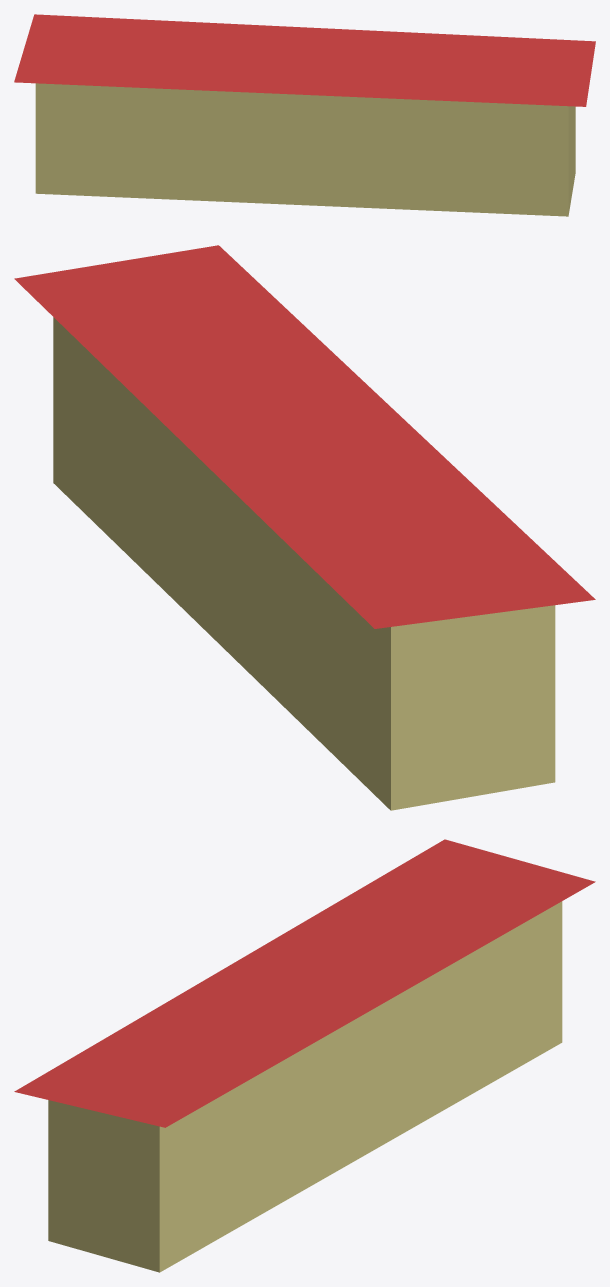
The picture shows the model from 3 angles, top to bottom: view 1: azimuth 30°, elevation 25°; view 2: azimuth 150°, elevation 25°; view 3: azimuth 270°, elevation 25°; orthographic projection. The views are drawn at different scales.
Size of the model in its own units: 21.54 by 17.92 by 5.4.
